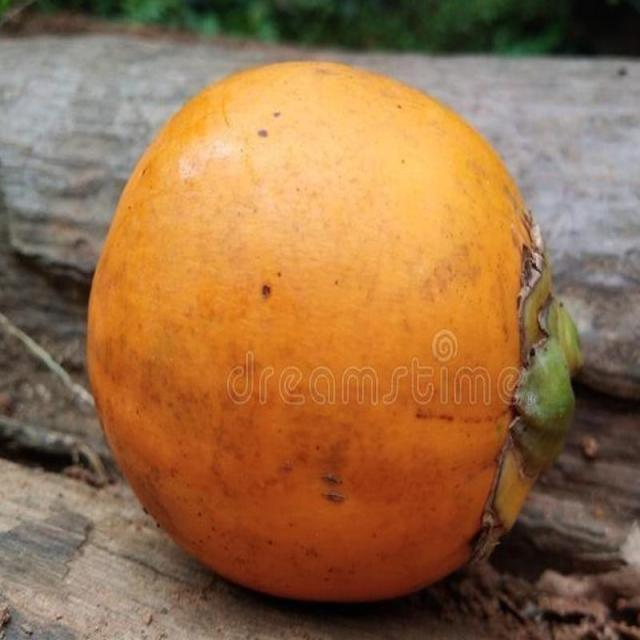good: (85, 61, 581, 608)
